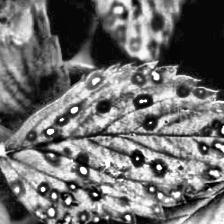Leaf Spot: (0, 60, 224, 224), (45, 171, 224, 224), (86, 0, 191, 64)
